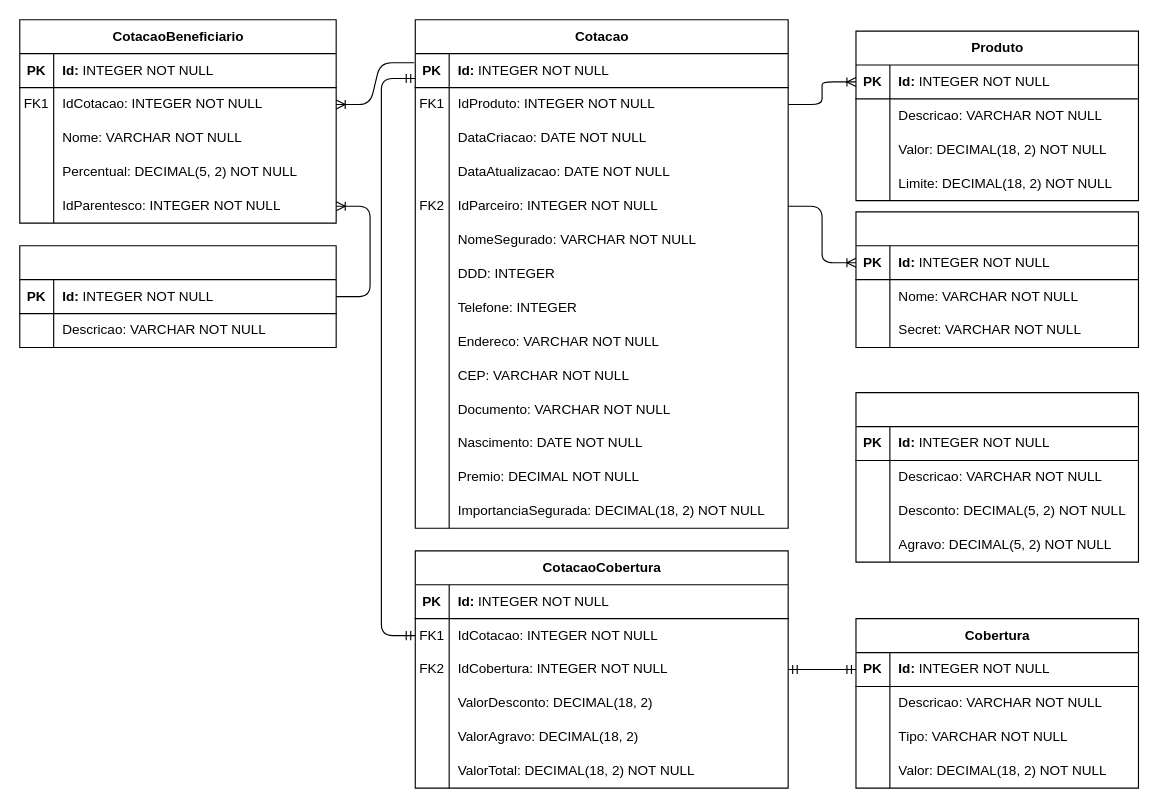
Some shapes in this 1158 by 808 pixel diagram are drawn without their labels. Here are the shapes that lost their labels. From the top down, the box of each, then its label:
(19, 245, 336, 347): Parentesco
(855, 211, 1138, 347): Parceiro
(855, 392, 1138, 562): FaixaIdade
